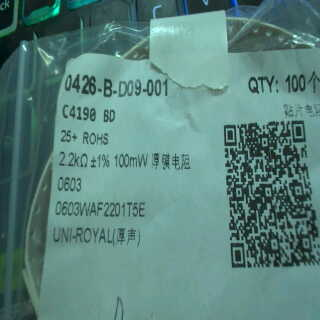2.2kR: (55, 147, 88, 172)
